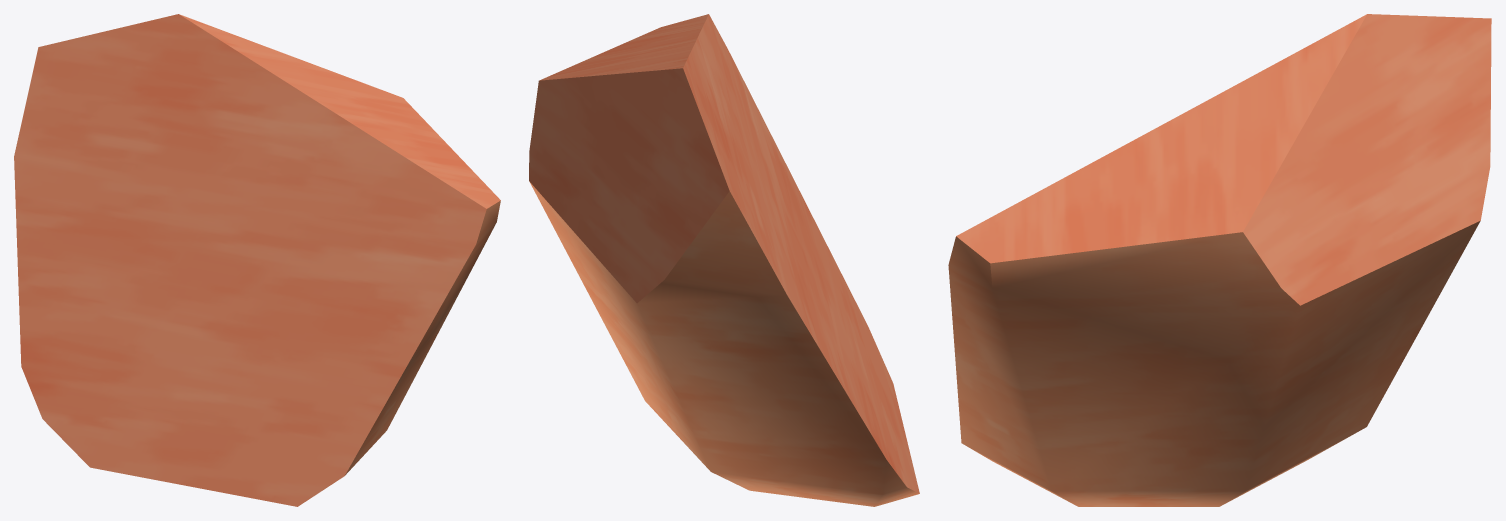
The model's file is pot_tall_s01.fbx.
3 views of the same model, side by side, from view 1: azimuth 30°, elevation 25°; view 2: azimuth 150°, elevation 25°; view 3: azimuth 270°, elevation 25° (orthographic). The views are drawn at different scales.
Parts seen in each view (by area): view 1: pot_tall_s01; view 2: pot_tall_s01; view 3: pot_tall_s01.
Part boxes in pixels (x1,y1,x2,y2): pot_tall_s01: [14, 14, 500, 506]; pot_tall_s01: [529, 14, 919, 506]; pot_tall_s01: [948, 14, 1491, 506].
Bounding box in the file's own units: 1.36 × 1.43 × 1.51.
